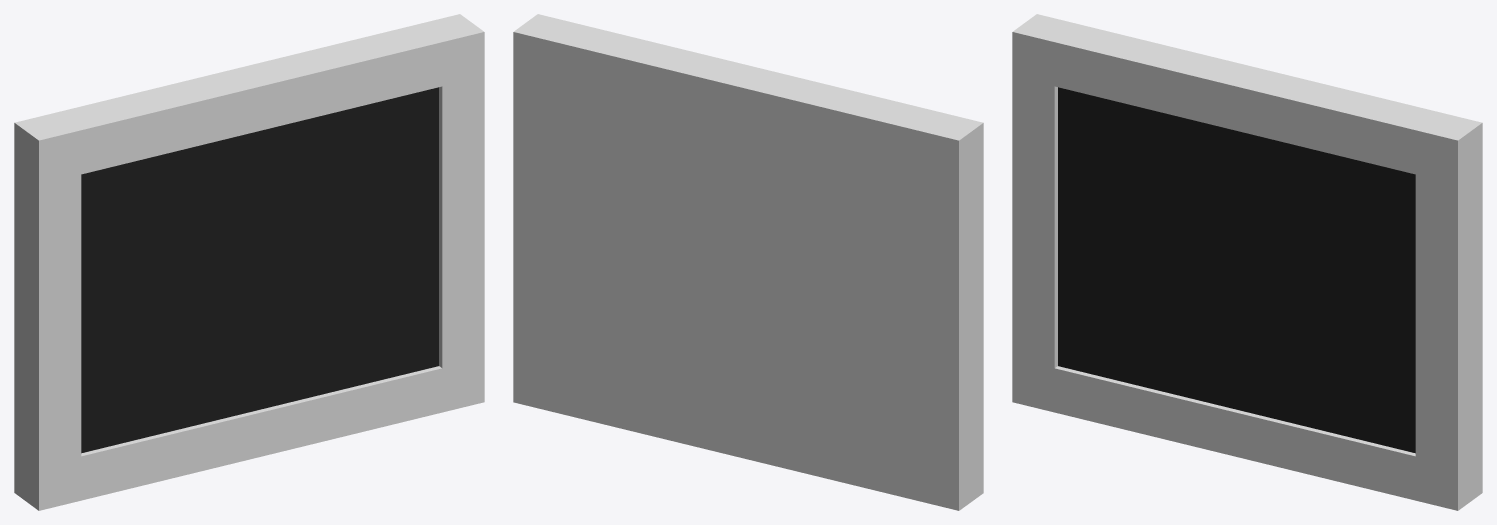
Rendered from Itr_Obj_Laptop_Screen_off_04.FBX.
3 views of the same model, side by side, from view 1: azimuth 30°, elevation 25°; view 2: azimuth 150°, elevation 25°; view 3: azimuth 330°, elevation 25° (orthographic).
Parts seen in each view (by area): view 1: Itr_Obj_Laptop_Screen_off_04; view 2: Itr_Obj_Laptop_Screen_off_04; view 3: Itr_Obj_Laptop_Screen_off_04.
Boxes of the visible parts, left/top/right/bottom form: Itr_Obj_Laptop_Screen_off_04: left=14, top=14, right=484, bottom=510; Itr_Obj_Laptop_Screen_off_04: left=513, top=14, right=983, bottom=510; Itr_Obj_Laptop_Screen_off_04: left=1012, top=14, right=1482, bottom=510.
Size of the model in its own units: 29.1 by 23.12 by 2.77.
